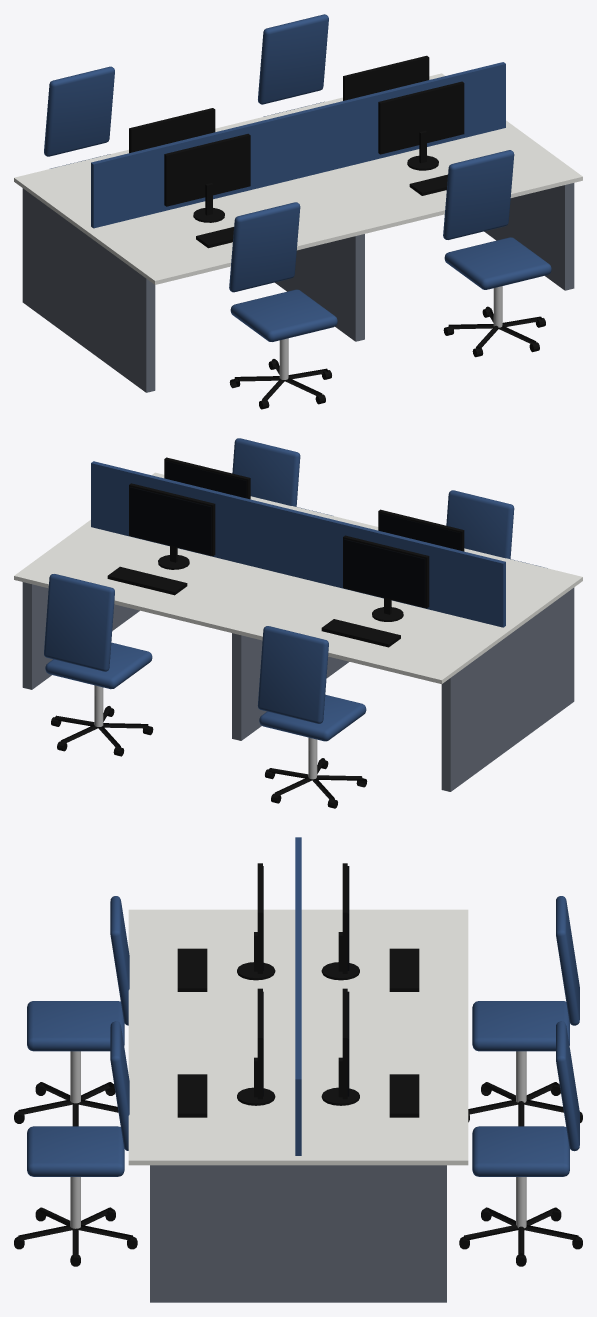
The model's file is office.desk.bench_4.glb.
3 renders of one model, top to bottom at view 1: azimuth 30°, elevation 25°; view 2: azimuth 150°, elevation 25°; view 3: azimuth 270°, elevation 25°, orthographic. The views are drawn at different scales.
Visible parts, largest first — view 1: chairs__fabric_blue, desk__laminate_white, desk__steel_painted, desk__fabric_blue, kit__plastic_black, chairs__plastic_black, chairs__steel_stainless; view 2: desk__laminate_white, chairs__fabric_blue, desk__steel_painted, desk__fabric_blue, kit__screen, kit__plastic_black, chairs__plastic_black, chairs__steel_stainless; view 3: desk__laminate_white, desk__steel_painted, chairs__fabric_blue, kit__plastic_black, chairs__plastic_black, chairs__steel_stainless, desk__fabric_blue, kit__screen.
Boxes of the visible parts, <box> form: chairs__fabric_blue: <box>44,14,551,341</box>; desk__laminate_white: <box>14,73,582,284</box>; desk__steel_painted: <box>22,183,574,392</box>; desk__fabric_blue: <box>91,62,505,228</box>; kit__plastic_black: <box>129,55,464,248</box>; chairs__plastic_black: <box>229,306,545,409</box>; chairs__steel_stainless: <box>279,286,502,379</box>; desk__laminate_white: <box>14,472,582,684</box>; chairs__fabric_blue: <box>44,438,547,741</box>; desk__steel_painted: <box>22,582,574,791</box>; desk__fabric_blue: <box>91,461,505,627</box>; kit__screen: <box>130,461,460,606</box>; kit__plastic_black: <box>107,457,464,647</box>; chairs__plastic_black: <box>51,706,367,808</box>; chairs__steel_stainless: <box>94,685,317,779</box>; desk__laminate_white: <box>128,909,468,1165</box>; desk__steel_painted: <box>150,1165,446,1302</box>; chairs__fabric_blue: <box>27,896,579,1176</box>; kit__plastic_black: <box>177,863,419,1117</box>; chairs__plastic_black: <box>14,1082,582,1266</box>; chairs__steel_stainless: <box>70,1051,526,1228</box>; desk__fabric_blue: <box>295,837,301,1155</box>; kit__screen: <box>263,866,349,1096</box>.
Size of the model in its own units: 2.8 by 1.18 by 2.68.
